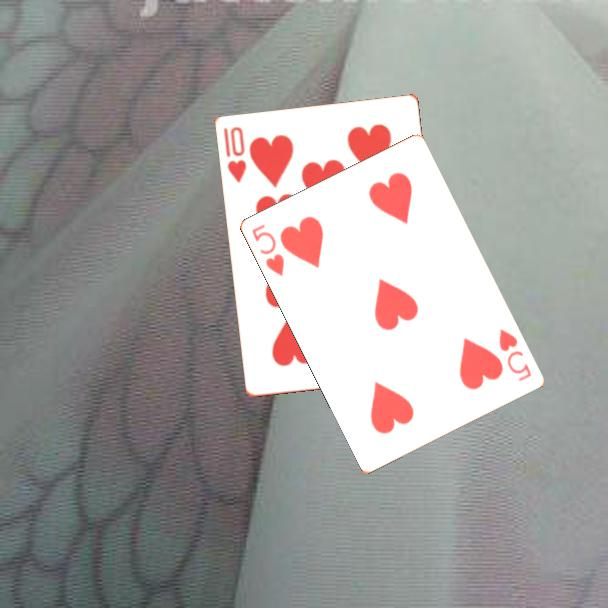h05: (496, 325, 535, 384), (249, 221, 288, 279)
h10: (220, 124, 250, 185)
